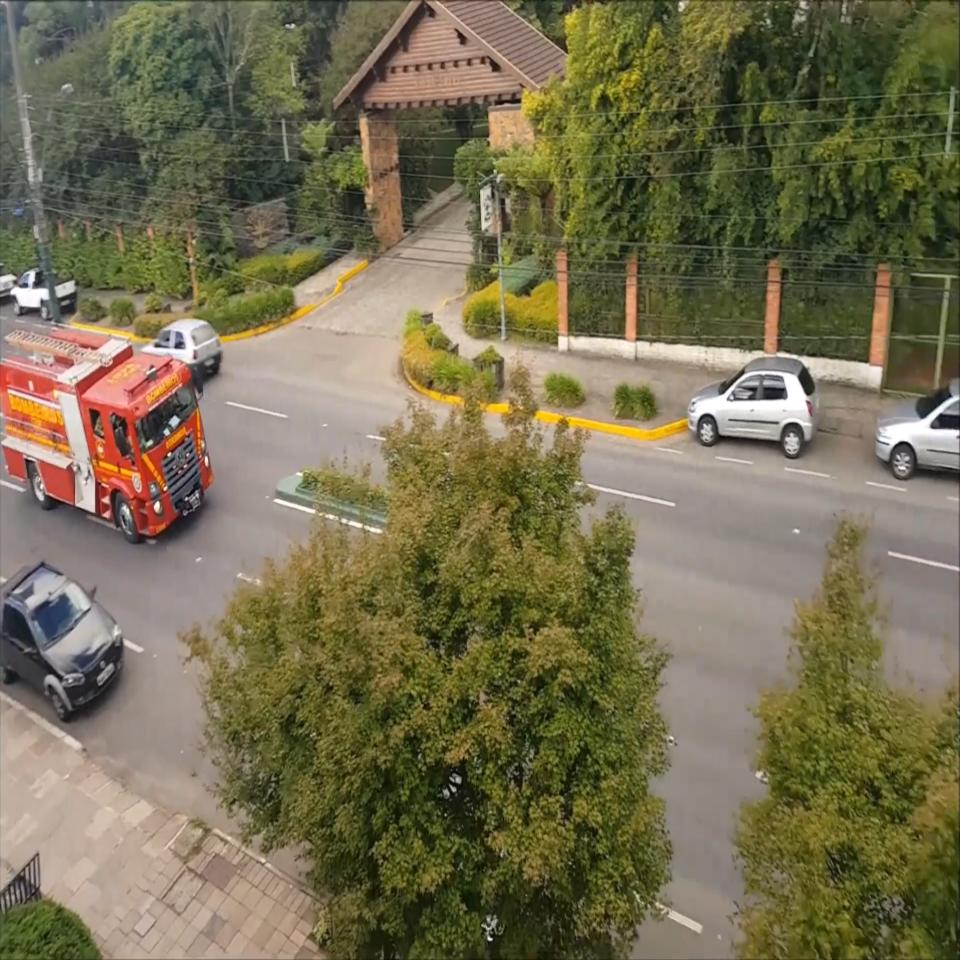viatura: (0, 321, 215, 543)
